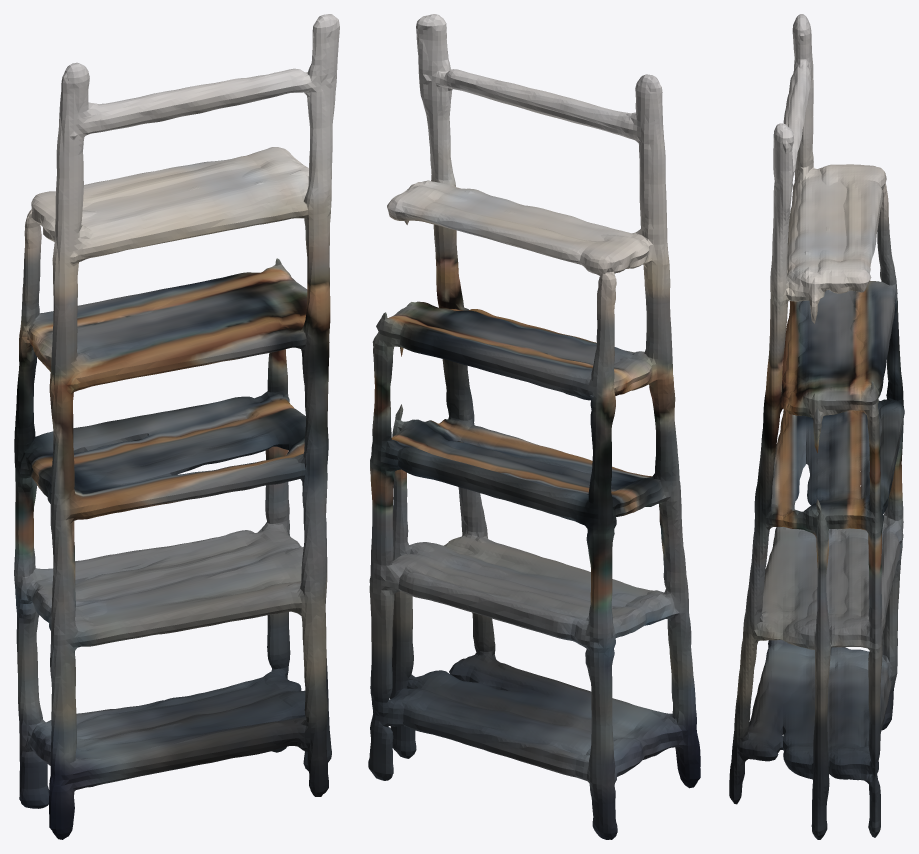
Rendered from shelf-002.glb.
The picture shows the model from 3 angles, left to right: view 1: azimuth 30°, elevation 25°; view 2: azimuth 150°, elevation 25°; view 3: azimuth 270°, elevation 25°; orthographic projection. The views are drawn at different scales.
Parts seen in each view (by area): view 1: geometry_0; view 2: geometry_0; view 3: geometry_0.
Boxes of the visible parts, x1,y1,x2,y2 form: geometry_0: (14,14,339,839); geometry_0: (368,14,700,839); geometry_0: (729,14,904,839).
Size of the model in its own units: 70 by 170 by 38.
